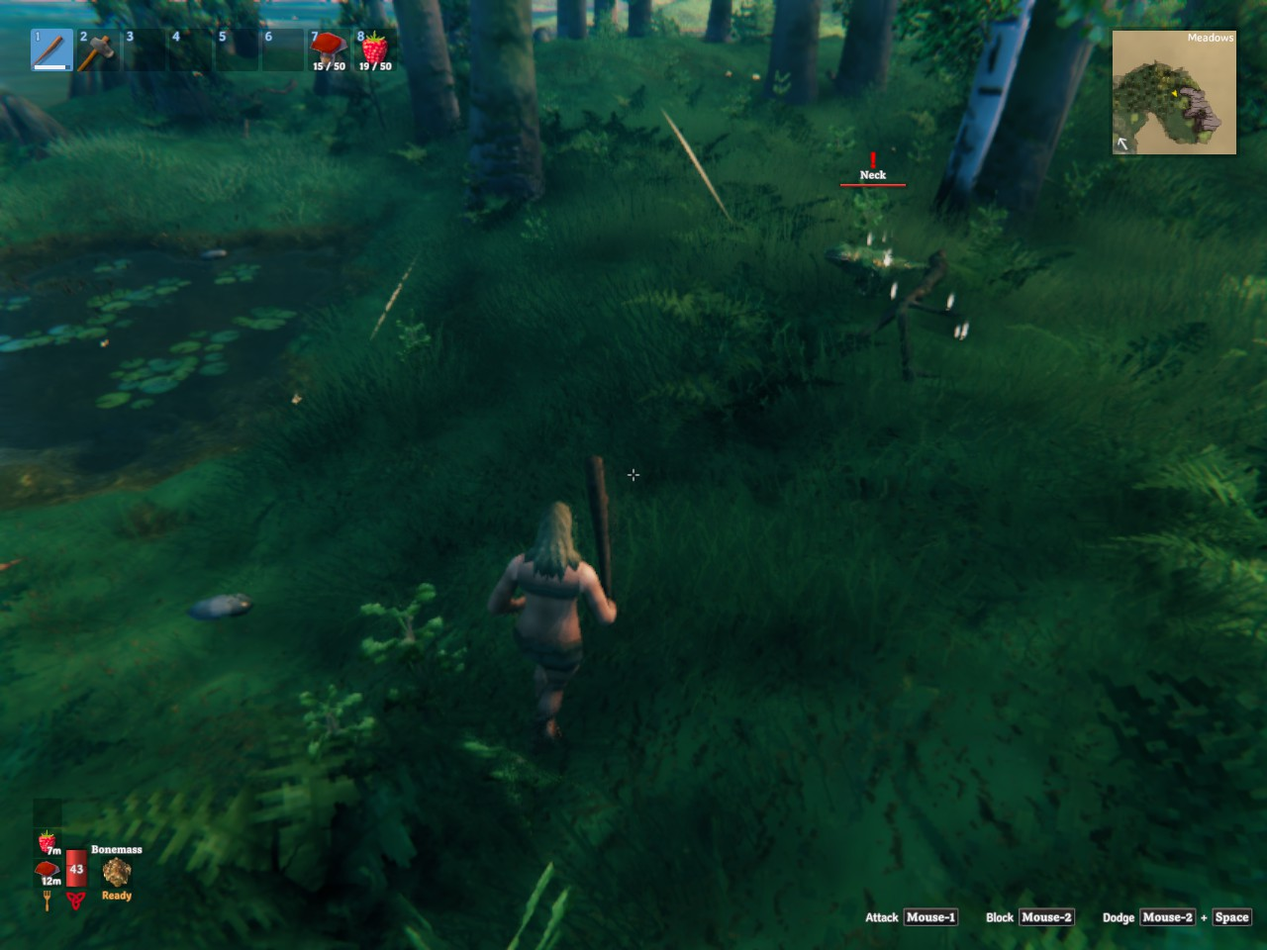Branch: (867, 250, 948, 381)
Flint: (189, 593, 252, 619)
Neck: (825, 242, 923, 295)
